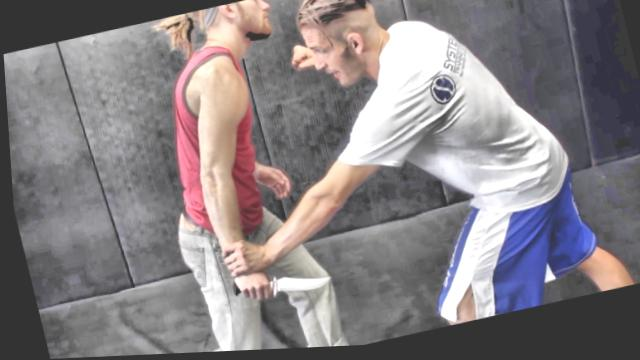knife: (220, 257, 335, 313)
